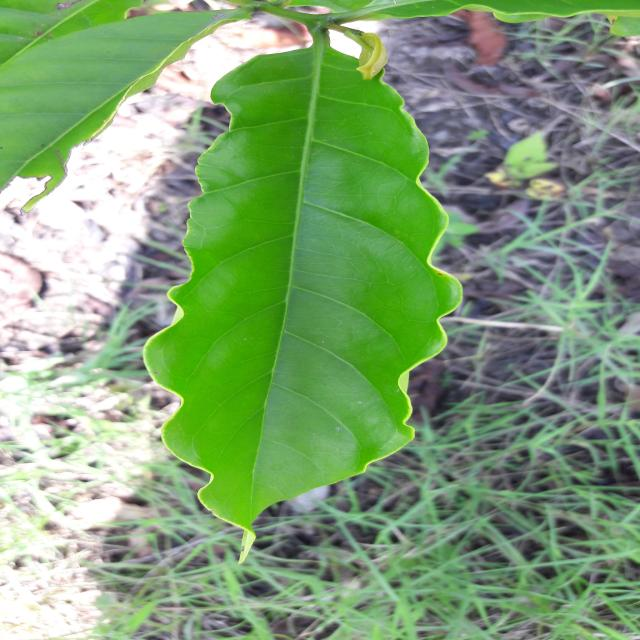Sanas: (141, 29, 463, 537)
